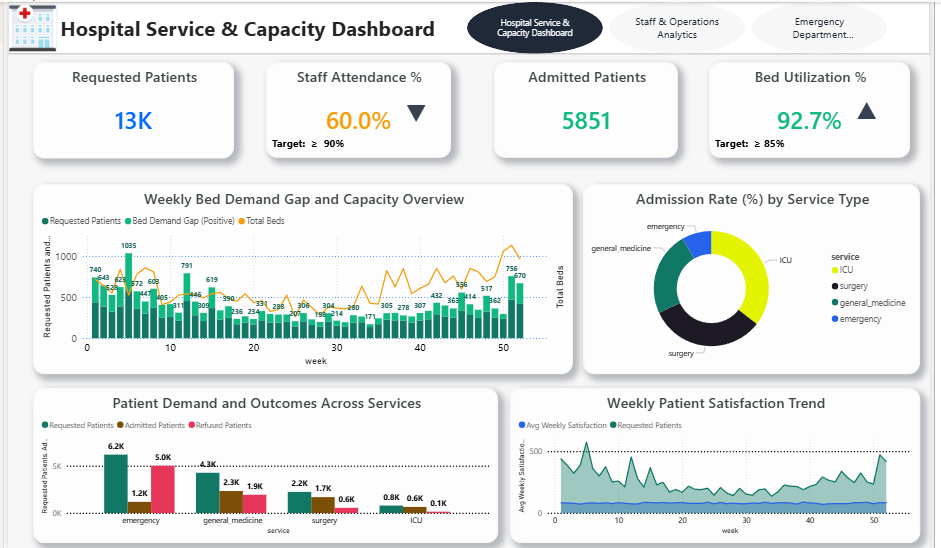

The dashboard page shown, as its layout file describes it:
{"tool":"powerbi","page":{"name":"Hospital Service & Capacity Dashboard","canvas":[1445,859],"ordinal":0},"visuals":[{"type":"shape","box":[0,0,1445.3,81.5],"z":0},{"type":"textbox","box":[76.8,12,629,63],"z":1000},{"type":"pageNavigator","box":[719.6,0,660.9,81.3],"z":2000},{"type":"card","title":"Requested Patients","fields":{"Values":["measuretable.Requested Patients"]},"box":[39.1,93.3,314.6,150.5],"z":3000},{"type":"card","title":"Staff Attendance %","fields":{"Values":["measuretable.Staff Attendance %"]},"box":[404.4,94.1,290,150.5],"z":4000},{"type":"card","title":"Admitted Patients","fields":{"Values":["measuretable.Admitted Patients"]},"box":[761.8,94.1,288.4,150.5],"z":5000},{"type":"card","title":"Bed Utilization %","fields":{"Values":["measuretable.Bed Utilization %"]},"box":[1098.8,94.1,315.1,150.5],"z":6000},{"type":"lineStackedColumnComboChart","title":"Weekly Bed Demand Gap and Capacity Overview","fields":{"Category":["hospital services_weekly.week"],"Y":["measuretable.Requested Patients","measuretable.Bed Demand Gap (Positive)"],"Y2":["measuretable.Total Beds"]},"box":[39.1,284.5,846,298.1],"z":7000},{"type":"donutChart","title":"Admission Rate (%) by Service Type","fields":{"Y":["measuretable.Admission Rate"],"Category":["hospital patients.service"]},"box":[901.3,285.3,528.3,297.8],"z":8000},{"type":"clusteredColumnChart","title":"Patient Demand and Outcomes Across Services","fields":{"Category":["hospital patients.service"],"Y":["measuretable.Requested Patients","measuretable.Admitted Patients","measuretable.Refused Patients"]},"box":[39.2,605.1,728.9,243],"z":9000},{"type":"lineChart","title":"Weekly Patient Satisfaction Trend","fields":{"Category":["hospital services_weekly.week"],"Y":["measuretable.Avg Weekly Satisfaction","measuretable.Requested Patients"]},"box":[786.9,605.1,642.7,243],"z":10000},{"type":"card","fields":{"Values":["measuretable.Bed Utilization Arrow"]},"box":[1310.4,133.2,70.5,72.1],"z":11000},{"type":"textbox","box":[1098.8,205.3,147.3,39.2],"z":12000},{"type":"card","fields":{"Values":["measuretable.Staff Attendance Arrow"]},"box":[559.6,142.6,159.9,62.7],"z":13000},{"type":"textbox","box":[404.4,205.3,167.7,39.2],"z":14000},{"type":"image","box":[0,3.1,76.8,75.2],"z":15000}]}

Visuals, with their boxes in screenshot pixels (x1, y1, x2, y2), scaled from the page's 1445x859 canvas onto the 941x548 screenshot:
shape: rect(0, 0, 940, 52)
textbox: rect(50, 8, 460, 48)
pageNavigator: rect(469, 0, 899, 52)
"Requested Patients" card: rect(25, 60, 230, 156)
"Staff Attendance %" card: rect(263, 60, 452, 156)
"Admitted Patients" card: rect(496, 60, 684, 156)
"Bed Utilization %" card: rect(716, 60, 921, 156)
"Weekly Bed Demand Gap and Capacity Overview" lineStackedColumnComboChart: rect(25, 181, 576, 372)
"Admission Rate (%) by Service Type" donutChart: rect(587, 182, 931, 372)
"Patient Demand and Outcomes Across Services" clusteredColumnChart: rect(26, 386, 500, 541)
"Weekly Patient Satisfaction Trend" lineChart: rect(512, 386, 931, 541)
card - measuretable.Bed Utilization Arrow: rect(853, 85, 899, 131)
textbox: rect(716, 131, 811, 156)
card - measuretable.Staff Attendance Arrow: rect(364, 91, 469, 131)
textbox: rect(263, 131, 373, 156)
image: rect(0, 2, 50, 50)
